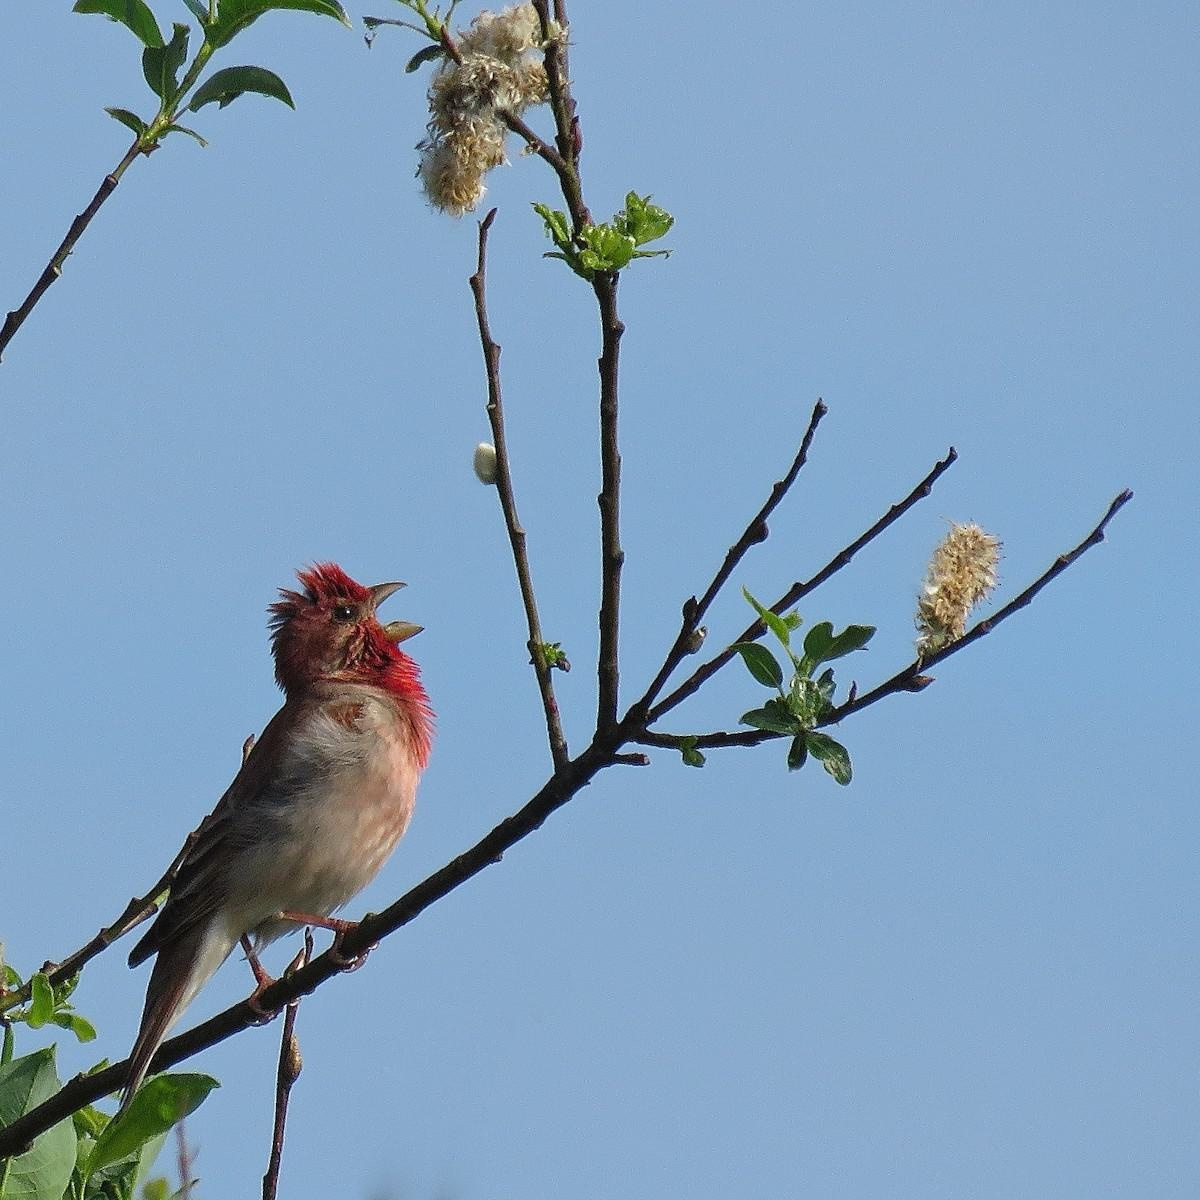rosefinch: (136, 551, 433, 1027)
